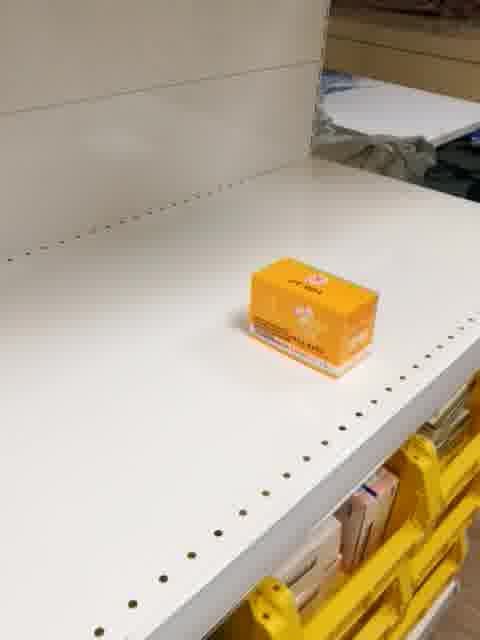jasminetea: (245, 254, 381, 383)
